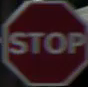Stop: (4, 2, 85, 83)
